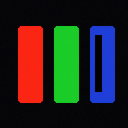4 line_v: (95, 35, 101, 91)
